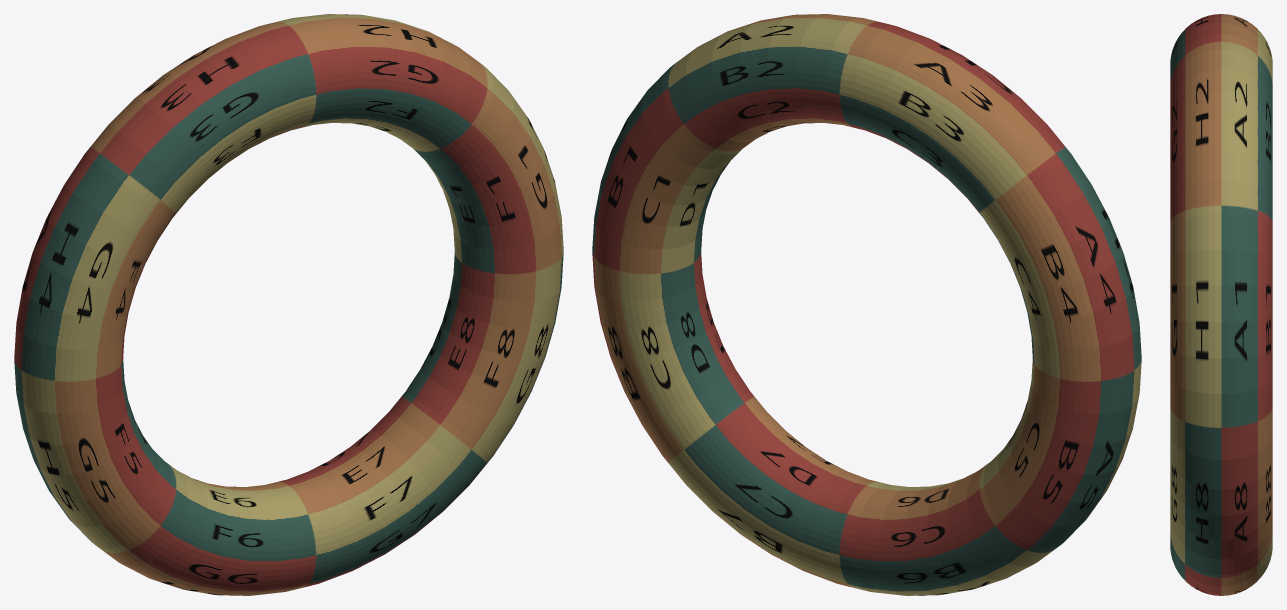
The model's file is texture_torus_R27_r15.glb.
3 views of the same model, side by side, from view 1: azimuth 30°, elevation 25°; view 2: azimuth 150°, elevation 25°; view 3: azimuth 270°, elevation 25° (orthographic). The views are drawn at different scales.
Visible parts, largest first — view 1: world; view 2: world; view 3: world.
Boxes of the visible parts, x1=… form: world: x1=14, y1=14, x2=563, y2=595; world: x1=592, y1=14, x2=1141, y2=595; world: x1=1170, y1=14, x2=1272, y2=595.
Bounding box in the file's own units: 34 × 33.93 × 5.99.
Materials: 1 (1 with a texture image).
